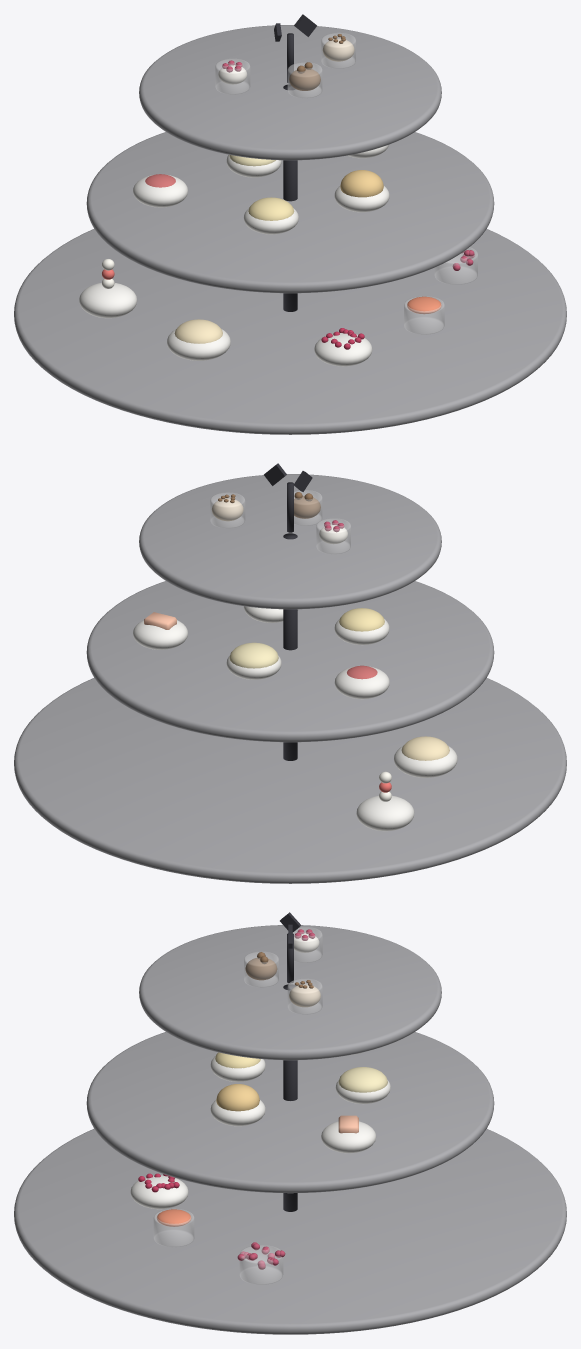
Rendered from tiered-tray.glb.
The picture shows the model from 3 angles, top to bottom: view 1: azimuth 30°, elevation 25°; view 2: azimuth 150°, elevation 25°; view 3: azimuth 270°, elevation 25°; orthographic projection.
Parts seen in each view (by area): view 1: Tier0, Tier1, Tier2, CapreseBowl, PomegranateBowl, TunaBowl, HummusBowl, PannaGlass, MousseGlass, TiramisuGlass, SoupGlass, BerriesGlass (+9 smaller); view 2: Tier0, Tier1, Tier2, CapreseBowl, SalmonBowl, TunaBowl, HummusBowl, TiramisuGlass, PannaGlass, Risotto, Post, Hummus (+5 smaller); view 3: Tier0, Tier1, Tier2, BerriesGlass, PomegranateBowl, SalmonBowl, TiramisuGlass, MousseGlass, SoupGlass, Risotto, PieTop, Post (+6 smaller).
Part boxes in pixels (x1=…): Tier0: x1=14, y1=229, x2=566, y2=434; Tier1: x1=86, y1=132, x2=494, y2=293; Tier2: x1=139, y1=25, x2=441, y2=160; CapreseBowl: x1=79, y1=282, x2=137, y2=318; PomegranateBowl: x1=314, y1=333, x2=372, y2=366; TunaBowl: x1=133, y1=175, x2=187, y2=207; HummusBowl: x1=167, y1=329, x2=230, y2=360; PannaGlass: x1=215, y1=58, x2=250, y2=94; MousseGlass: x1=287, y1=62, x2=322, y2=98; TiramisuGlass: x1=321, y1=32, x2=355, y2=68; SoupGlass: x1=404, y1=296, x2=444, y2=334; BerriesGlass: x1=434, y1=247, x2=477, y2=284; Tier0: x1=14, y1=678, x2=566, y2=883; Tier1: x1=86, y1=581, x2=494, y2=742; Tier2: x1=139, y1=474, x2=441, y2=609; CapreseBowl: x1=356, y1=795, x2=414, y2=831; SalmonBowl: x1=133, y1=620, x2=187, y2=649; TunaBowl: x1=334, y1=666, x2=389, y2=699; HummusBowl: x1=394, y1=746, x2=457, y2=777; TiramisuGlass: x1=210, y1=492, x2=245, y2=528; PannaGlass: x1=316, y1=518, x2=350, y2=554; Risotto: x1=229, y1=642, x2=278, y2=668; Post: x1=283, y1=533, x2=297, y2=760; Hummus: x1=401, y1=736, x2=449, y2=760; Tier0: x1=14, y1=1129, x2=566, y2=1334; Tier1: x1=86, y1=1032, x2=494, y2=1193; Tier2: x1=139, y1=925, x2=441, y2=1060; BerriesGlass: x1=239, y1=1245, x2=283, y2=1284; PomegranateBowl: x1=130, y1=1175, x2=188, y2=1209; SalmonBowl: x1=321, y1=1121, x2=376, y2=1153; TiramisuGlass: x1=287, y1=978, x2=322, y2=1014; MousseGlass: x1=244, y1=951, x2=278, y2=987; SoupGlass: x1=153, y1=1208, x2=194, y2=1247; Risotto: x1=338, y1=1067, x2=387, y2=1092; PieTop: x1=216, y1=1084, x2=259, y2=1111; Post: x1=283, y1=984, x2=297, y2=1211.
Size of the model in its own units: 1.9 by 1.14 by 1.9.
